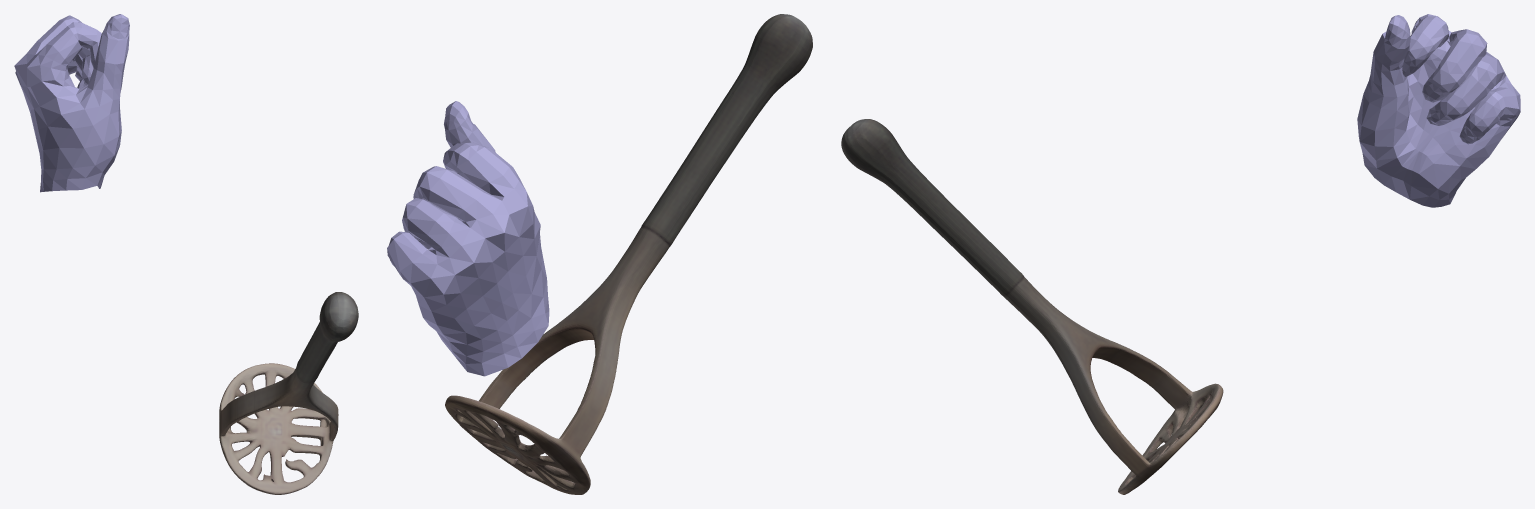
Rendered from frame_0042_source_000042_hand_object.glb.
3 renders of one model, left to right at view 1: azimuth 30°, elevation 25°; view 2: azimuth 150°, elevation 25°; view 3: azimuth 270°, elevation 25°, orthographic. The views are drawn at different scales.
Visible parts, largest first — view 1: world; view 2: world; view 3: world.
Part boxes in pixels (x1=…): world: x1=14, y1=14, x2=358, y2=494; world: x1=387, y1=14, x2=812, y2=494; world: x1=841, y1=14, x2=1520, y2=494.
Bounding box in the file's own units: 0.1286 × 0.2739 × 0.3763.
